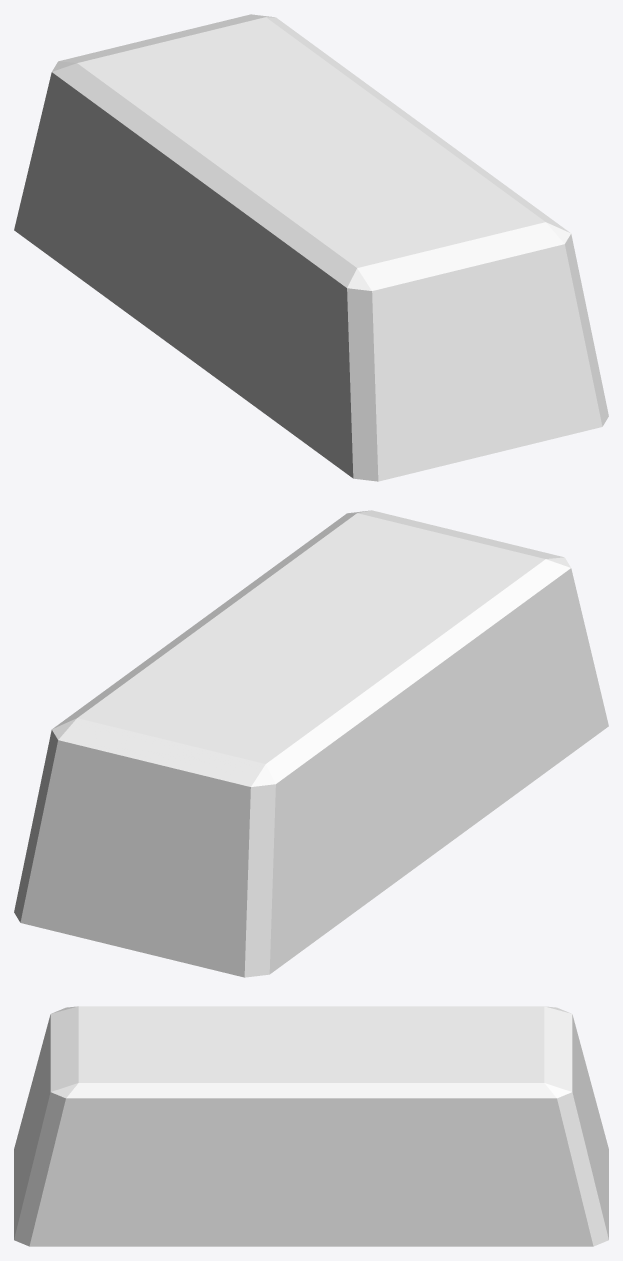
Rendered from GoldStack.fbx.
3 views of the same model, one above another, from view 1: azimuth 30°, elevation 25°; view 2: azimuth 150°, elevation 25°; view 3: azimuth 270°, elevation 25° (orthographic). The views are drawn at different scales.
Parts seen in each view (by area): view 1: GOLDSTACK; view 2: GOLDSTACK; view 3: GOLDSTACK.
Part boxes in pixels (bbox=[...]): GOLDSTACK: bbox=[14, 14, 608, 481]; GOLDSTACK: bbox=[14, 510, 608, 977]; GOLDSTACK: bbox=[14, 1006, 608, 1246].
Bounding box in the file's own units: 33.45 × 81.11 × 22.59.
